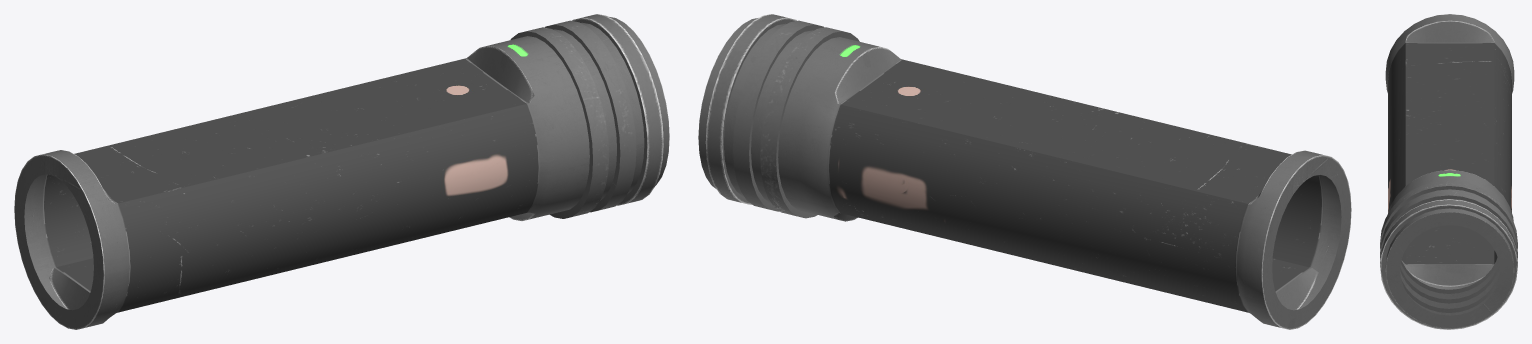
File: grip_13_c_c.glb
The picture shows the model from 3 angles, left to right: view 1: azimuth 30°, elevation 25°; view 2: azimuth 150°, elevation 25°; view 3: azimuth 270°, elevation 25°; orthographic projection. The views are drawn at different scales.
Visible parts, largest first — view 1: grip_13_c_c_lod0; view 2: grip_13_c_c_lod0; view 3: grip_13_c_c_lod0.
Part boxes in pixels (x1,y1,x2,y2): grip_13_c_c_lod0: [14, 14, 669, 329]; grip_13_c_c_lod0: [698, 14, 1351, 329]; grip_13_c_c_lod0: [1380, 14, 1517, 329].
Size of what is drawn, in the model's own units: 0.1052 by 0.031 by 0.0309.
1 material, 1 textured.
